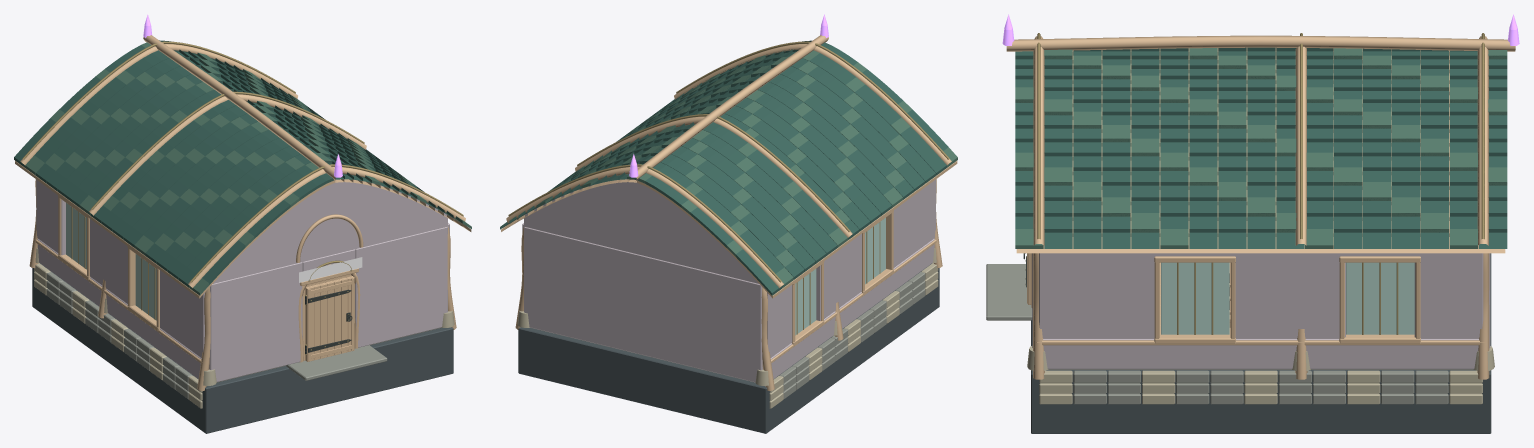
Rendered from forest.glb.
3 views of the same model, side by side, from view 1: azimuth 30°, elevation 25°; view 2: azimuth 150°, elevation 25°; view 3: azimuth 270°, elevation 25° (orthographic). The views are drawn at different scales.
Visible parts, largest first — view 1: 紫叶药草馆 · plaster, 紫叶药草馆 · leafroof, 紫叶药草馆 · darkstone, 紫叶药草馆 · wood, 紫叶药草馆 · leaflight, 紫叶药草馆 · stone, 紫叶药草馆 · 正门 · wood, 紫叶药草馆 · trim, 紫叶药草馆 · pale, 紫叶药草馆 · botanicalglass, 紫叶药草馆, 紫叶药草馆 · 正门 · iron; view 2: 紫叶药草馆 · plaster, 紫叶药草馆 · leafroof, 紫叶药草馆 · darkstone, 紫叶药草馆 · wood, 紫叶药草馆 · leaflight, 紫叶药草馆 · trim, 紫叶药草馆 · stone, 紫叶药草馆 · pale, 紫叶药草馆 · botanicalglass; view 3: 紫叶药草馆 · leafroof, 紫叶药草馆 · plaster, 紫叶药草馆 · wood, 紫叶药草馆 · leaflight, 紫叶药草馆 · darkstone, 紫叶药草馆 · stone, 紫叶药草馆 · botanicalglass, 紫叶药草馆 · pale, 紫叶药草馆 · trim, 紫叶药草馆 · amethyst.
Part boxes in pixels (bbox=[...]): 紫叶药草馆 · plaster: bbox=[36, 179, 449, 381]; 紫叶药草馆 · leafroof: bbox=[14, 40, 462, 287]; 紫叶药草馆 · darkstone: bbox=[32, 263, 453, 433]; 紫叶药草馆 · wood: bbox=[15, 35, 471, 390]; 紫叶药草馆 · leaflight: bbox=[25, 42, 471, 295]; 紫叶药草馆 · stone: bbox=[46, 272, 441, 399]; 紫叶药草馆 · 正门 · wood: bbox=[305, 276, 354, 361]; 紫叶药草馆 · trim: bbox=[22, 41, 463, 319]; 紫叶药草馆 · pale: bbox=[34, 248, 454, 408]; 紫叶药草馆 · botanicalglass: bbox=[66, 203, 156, 320]; 紫叶药草馆: bbox=[299, 257, 362, 282]; 紫叶药草馆 · 正门 · iron: bbox=[305, 289, 352, 353]; 紫叶药草馆 · plaster: bbox=[522, 179, 935, 382]; 紫叶药草馆 · leafroof: bbox=[500, 40, 948, 295]; 紫叶药草馆 · darkstone: bbox=[518, 263, 939, 433]; 紫叶药草馆 · wood: bbox=[501, 35, 957, 390]; 紫叶药草馆 · leaflight: bbox=[536, 50, 957, 287]; 紫叶药草馆 · trim: bbox=[508, 41, 949, 334]; 紫叶药草馆 · stone: bbox=[530, 272, 925, 398]; 紫叶药草馆 · pale: bbox=[517, 248, 938, 408]; 紫叶药草馆 · botanicalglass: bbox=[795, 217, 885, 335]; 紫叶药草馆 · leafroof: bbox=[1015, 47, 1507, 248]; 紫叶药草馆 · plaster: bbox=[1032, 253, 1490, 369]; 紫叶药草馆 · wood: bbox=[1006, 35, 1515, 379]; 紫叶药草馆 · leaflight: bbox=[1015, 48, 1507, 248]; 紫叶药草馆 · darkstone: bbox=[1031, 253, 1491, 433]; 紫叶药草馆 · stone: bbox=[986, 264, 1474, 404]; 紫叶药草馆 · botanicalglass: bbox=[1161, 262, 1414, 334]; 紫叶药草馆 · pale: bbox=[1027, 346, 1494, 404]; 紫叶药草馆 · trim: bbox=[1037, 33, 1484, 334]; 紫叶药草馆 · amethyst: bbox=[1002, 14, 1519, 45].
Size of the model in its own units: 10.45 by 9.29 by 13.2.
